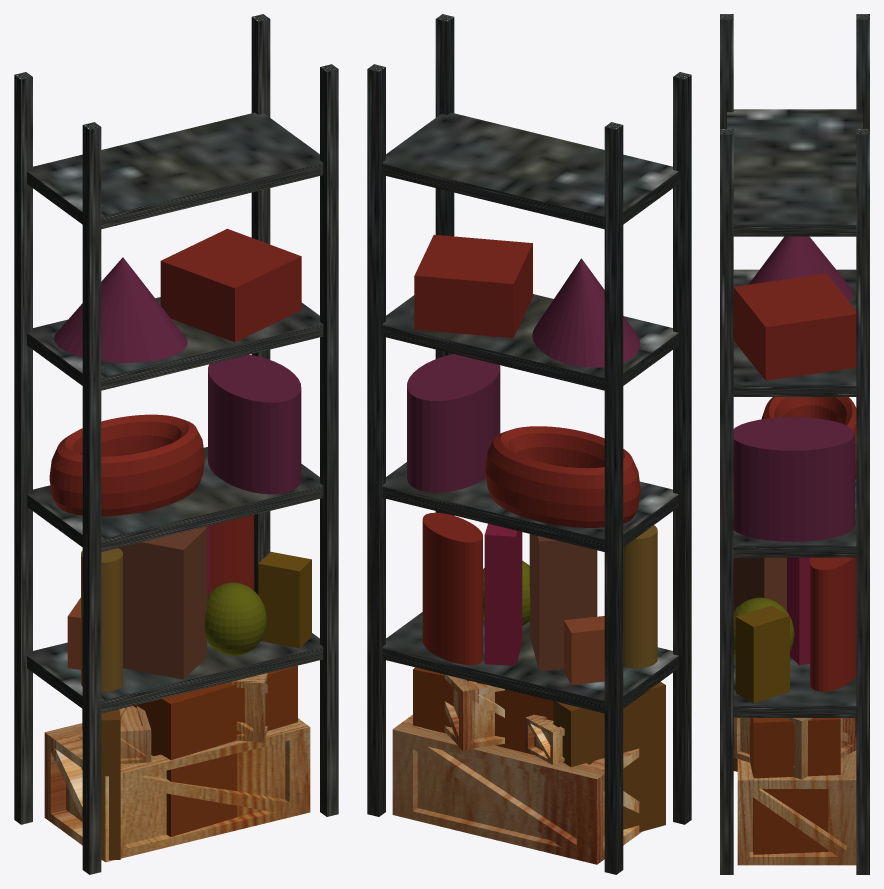
Rendered from shelf.fbx.
3 renders of one model, left to right at view 1: azimuth 30°, elevation 25°; view 2: azimuth 150°, elevation 25°; view 3: azimuth 270°, elevation 25°, orthographic.
Visible parts, largest first — view 1: Shelf.003, Cube.007, Leg.002, Leg, Leg.003, Cube.006, Cylinder.002, Cube, Torus, Cube.005, Shelf.001, Shelf (+11 smaller); view 2: Cube.007, Shelf.003, Leg.003, Leg.001, Leg.002, Torus, Cylinder.002, Cube.006, Cylinder.001, Shelf.002, Shelf, Cube.004 (+10 smaller); view 3: Shelf.003, Cylinder.002, Cube.006, Leg, Leg.001, Cube.005, Cube.007, Cylinder.001, Cube.001, Shelf.002, Shelf, Cone (+8 smaller).
Part boxes in pixels (<box>): Shelf.003: <box>27,112,323,229</box>; Cube.007: <box>44,718,310,862</box>; Leg.002: <box>82,122,101,874</box>; Leg: <box>320,64,338,816</box>; Leg.003: <box>14,72,32,824</box>; Cube.006: <box>160,228,301,342</box>; Cylinder.002: <box>208,354,301,494</box>; Cube: <box>118,527,207,679</box>; Torus: <box>49,414,204,516</box>; Cube.005: <box>133,665,297,836</box>; Shelf.001: <box>27,447,323,551</box>; Shelf: <box>27,633,323,713</box>; Cube.007: <box>392,714,641,864</box>; Shelf.003: <box>382,112,678,229</box>; Leg.003: <box>604,122,623,874</box>; Leg.001: <box>367,64,385,816</box>; Leg.002: <box>673,72,691,824</box>; Torus: <box>485,426,640,527</box>; Cylinder.002: <box>407,354,500,492</box>; Cube.006: <box>414,234,532,337</box>; Cylinder.001: <box>422,512,482,664</box>; Shelf.002: <box>382,294,678,390</box>; Shelf: <box>382,612,678,713</box>; Cube.004: <box>553,681,665,832</box>; Shelf.003: <box>727,109,862,236</box>; Cylinder.002: <box>733,417,854,541</box>; Cube.006: <box>733,273,856,380</box>; Leg: <box>720,129,733,874</box>; Leg.001: <box>856,129,869,874</box>; Cube.005: <box>749,718,840,854</box>; Cube.007: <box>737,750,856,865</box>; Cylinder.001: <box>810,557,856,691</box>; Cube.001: <box>735,605,789,703</box>; Shelf.002: <box>733,269,856,396</box>; Shelf: <box>733,656,856,717</box>; Cone: <box>748,236,852,301</box>.
Bounding box in the file's own units: 210 × 600 × 110.
